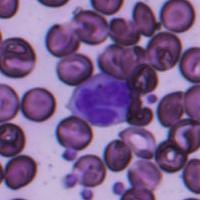M: (69, 72, 132, 127)
